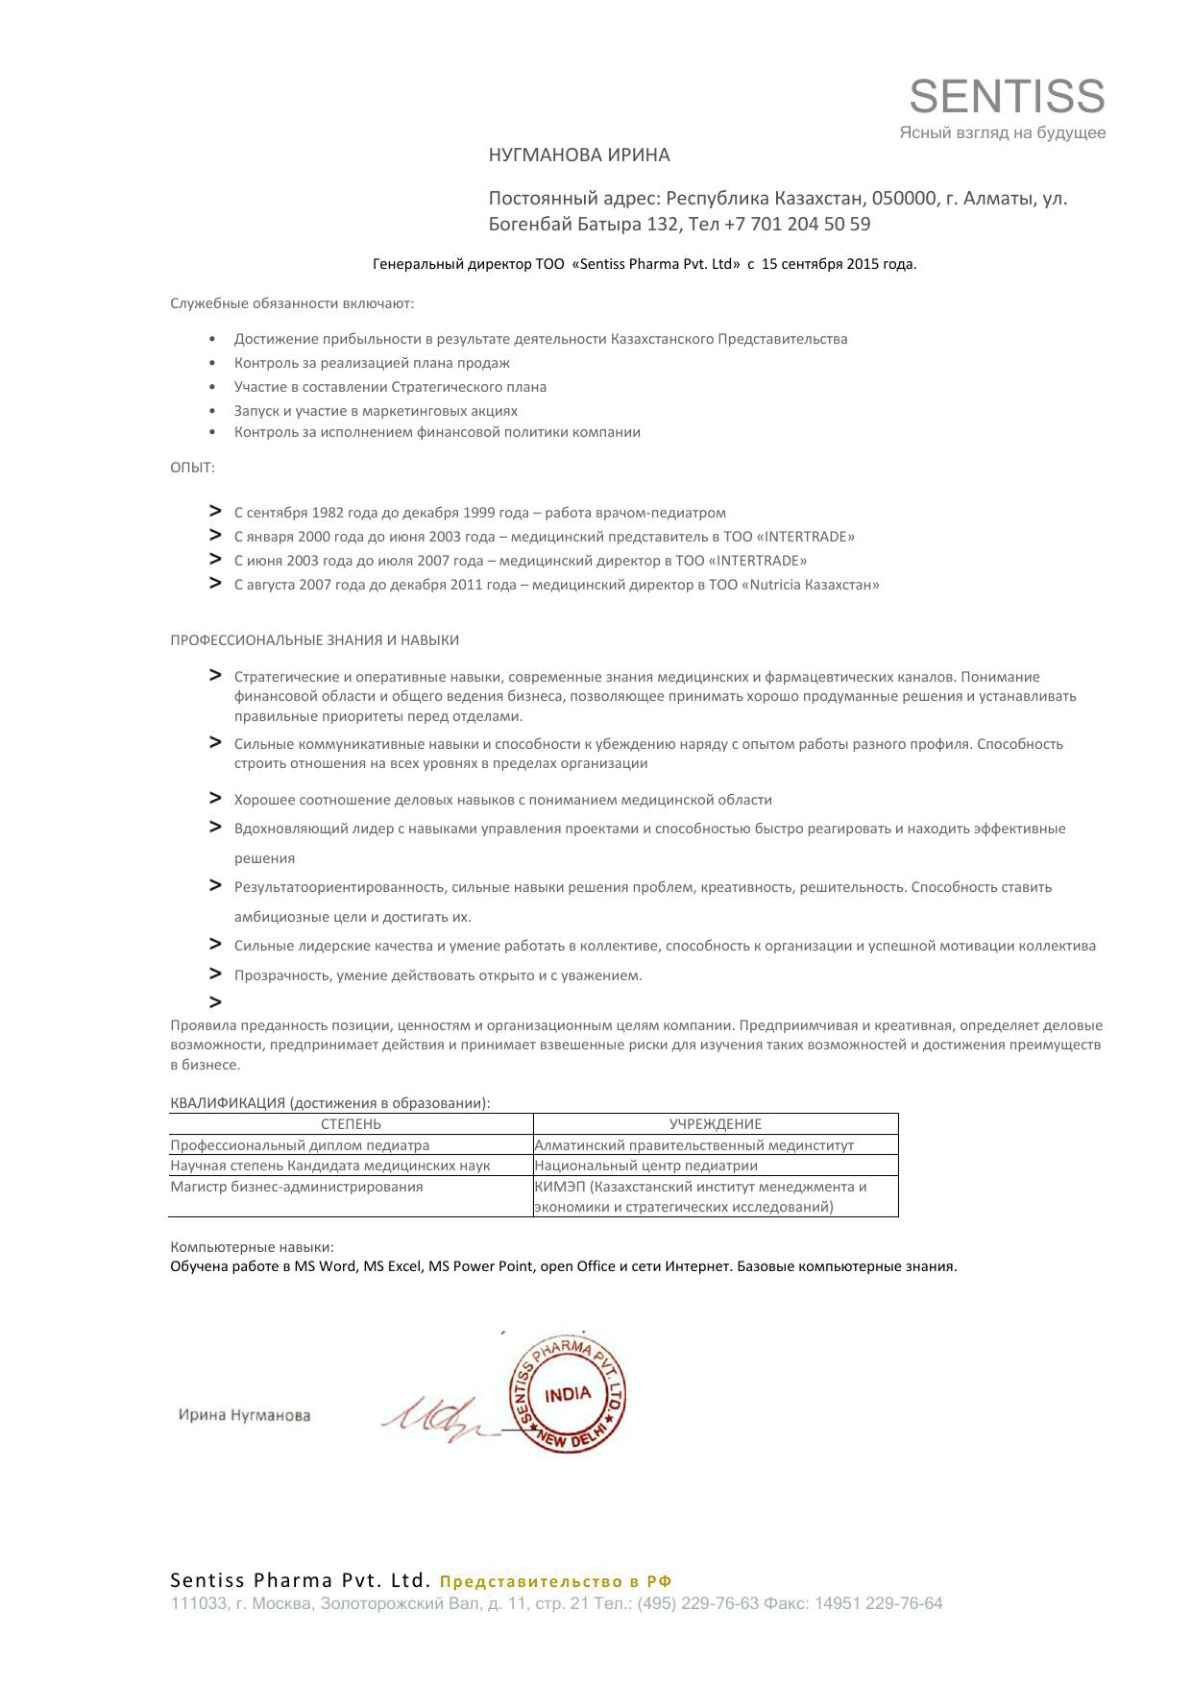partial_lined: (168, 1111, 900, 1217)
